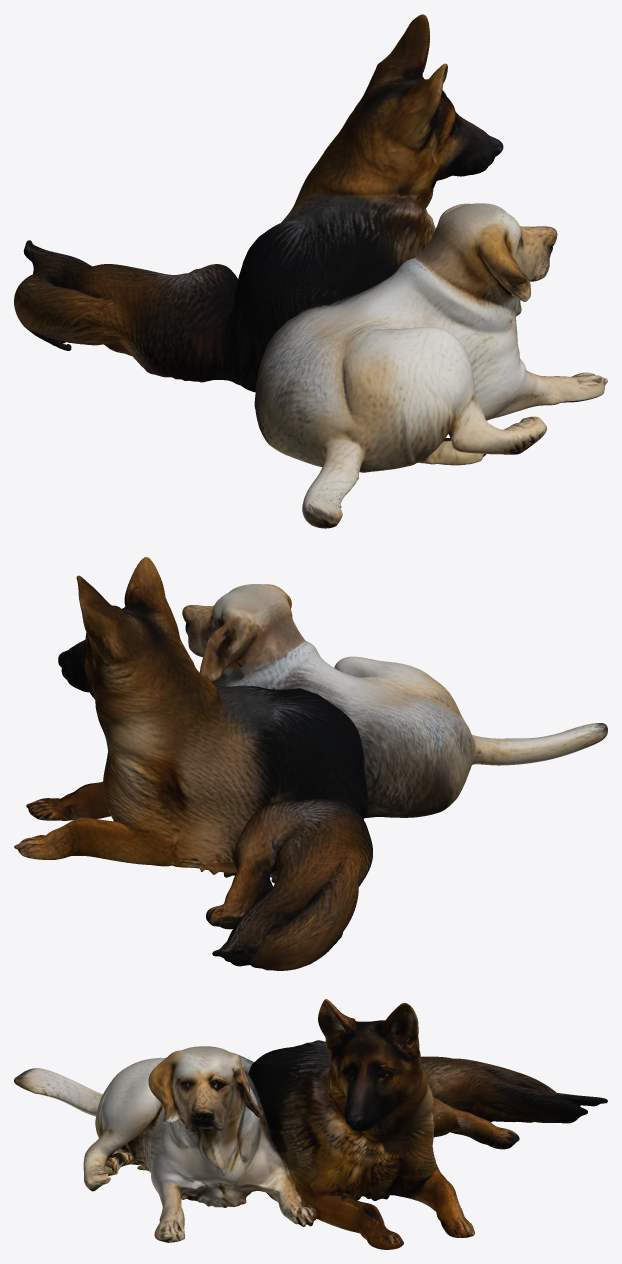
File: PERRO4.fbx
3 views of the same model, one above another, from view 1: azimuth 30°, elevation 25°; view 2: azimuth 150°, elevation 25°; view 3: azimuth 270°, elevation 25° (orthographic). The views are drawn at different scales.
Visible parts, largest first — view 1: tripo_node_3ddc13b5; view 2: tripo_node_3ddc13b5; view 3: tripo_node_3ddc13b5.
Part boxes in pixels (box(x1,y1,x2,y2)): tripo_node_3ddc13b5: box(14, 14, 607, 528); tripo_node_3ddc13b5: box(14, 557, 607, 970); tripo_node_3ddc13b5: box(14, 999, 607, 1249).
Bounding box in the file's own units: 64.46 × 43.44 × 100.
1 material, 1 textured.
